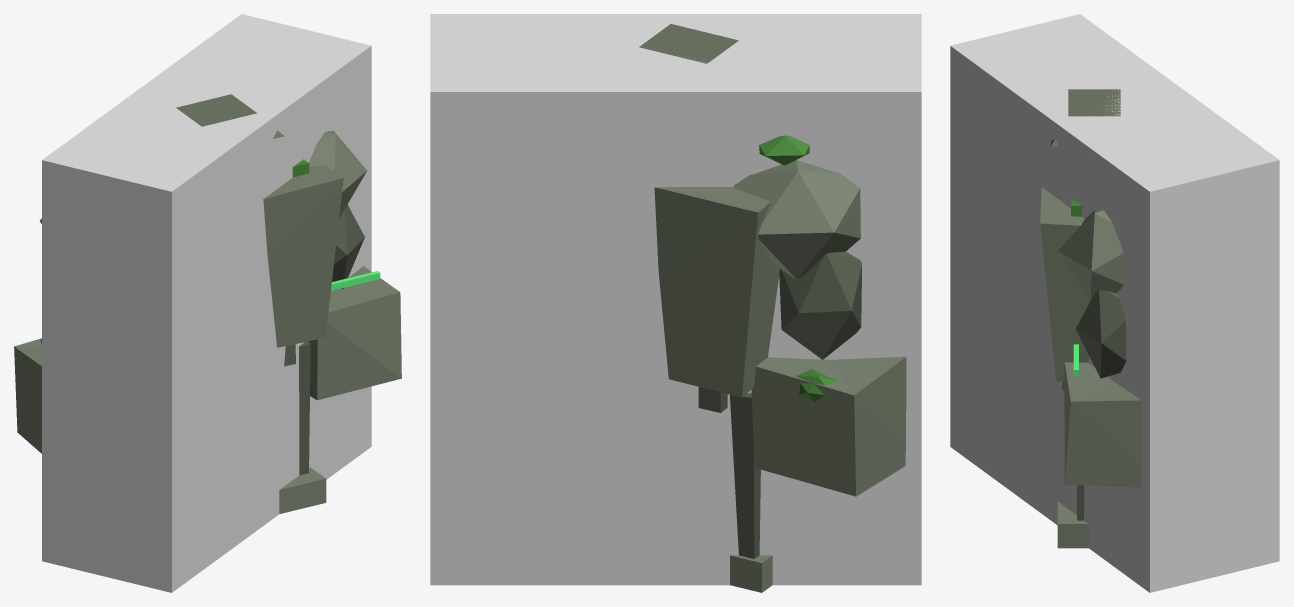
File: jungle_animated_statue.fbx
3 renders of one model, left to right at view 1: azimuth 30°, elevation 25°; view 2: azimuth 150°, elevation 25°; view 3: azimuth 270°, elevation 25°, orthographic. The views are drawn at different scales.
Visible parts, largest first — view 1: Root__0.02_3.50_-0.04__6.32_7.00_2.37, Body__Root__0.00_3.91_0.00, ArmL__Body__-2.01_5.07_0.00, LegL__Body__-0.90_2.75_0.00, ArmR__Body__2.01_5.07_0.00, Head__Body__0.00_5.49_-0.21; view 2: Root__0.02_3.50_-0.04__6.32_7.00_2.37, Body__Root__0.00_3.91_0.00, ArmR__Body__2.01_5.07_0.00, LegR__Body__0.90_2.75_0.00, Head__Body__0.00_5.49_-0.21; view 3: Root__0.02_3.50_-0.04__6.32_7.00_2.37, ArmL__Body__-2.01_5.07_0.00, Body__Root__0.00_3.91_0.00, Head__Body__0.00_5.49_-0.21, LegL__Body__-0.90_2.75_0.00.
Boxes of the visible parts, x1,y1,x2,y2 form: Root__0.02_3.50_-0.04__6.32_7.00_2.37: (42,14,371,592); Body__Root__0.00_3.91_0.00: (40,131,366,366); ArmL__Body__-2.01_5.07_0.00: (308,204,401,400); LegL__Body__-0.90_2.75_0.00: (279,341,326,513); ArmR__Body__2.01_5.07_0.00: (14,338,41,453); Head__Body__0.00_5.49_-0.21: (176,94,284,138); Root__0.02_3.50_-0.04__6.32_7.00_2.37: (430,14,921,585); Body__Root__0.00_3.91_0.00: (654,135,860,412); ArmR__Body__2.01_5.07_0.00: (751,251,906,496); LegR__Body__0.90_2.75_0.00: (730,393,772,592); Head__Body__0.00_5.49_-0.21: (639,24,738,63); Root__0.02_3.50_-0.04__6.32_7.00_2.37: (950,14,1279,592); ArmL__Body__-2.01_5.07_0.00: (1064,290,1141,487); Body__Root__0.00_3.91_0.00: (1040,187,1124,390); Head__Body__0.00_5.49_-0.21: (1051,89,1120,146); LegL__Body__-0.90_2.75_0.00: (1057,485,1088,548).
Bounding box in the file's own units: 186 × 196 × 146.
Materials: 2 (1 with a texture image).
